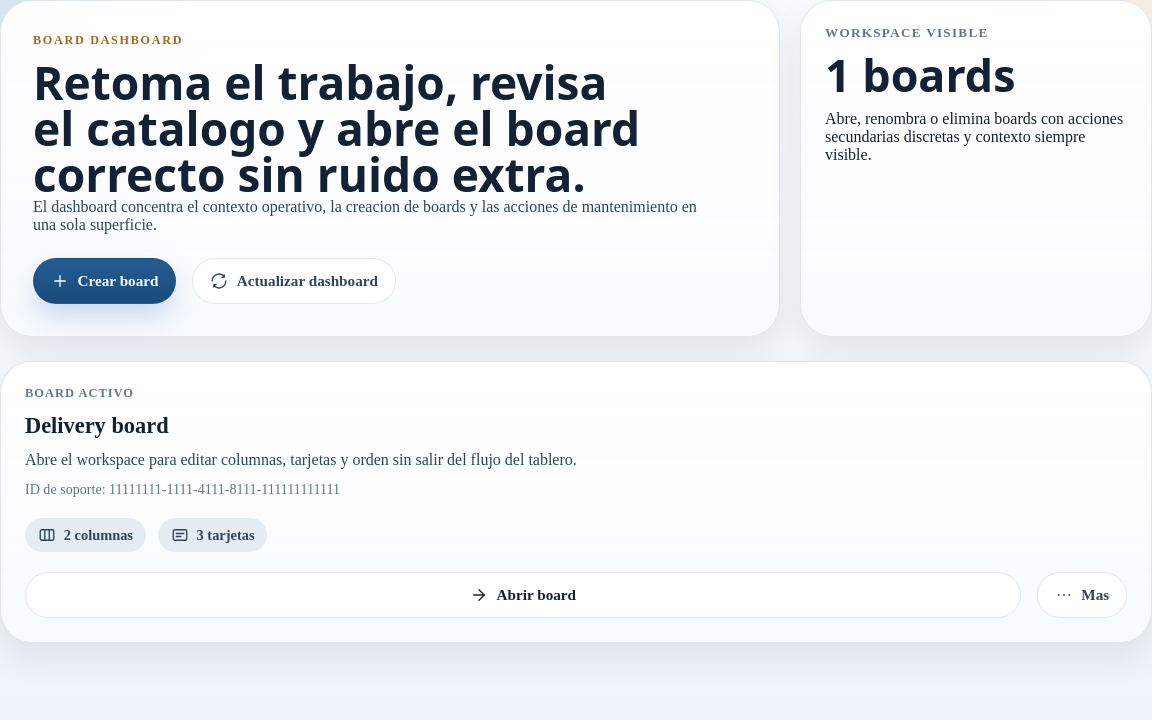
HomeRoute › deletes a board from the dashboard after confirmation
Expected: the heading "Delivery board" is shown, [25,413,169,438]
Click the button "Mas" at (1082, 595), box [1037,572,1127,618]
(page scrolled)
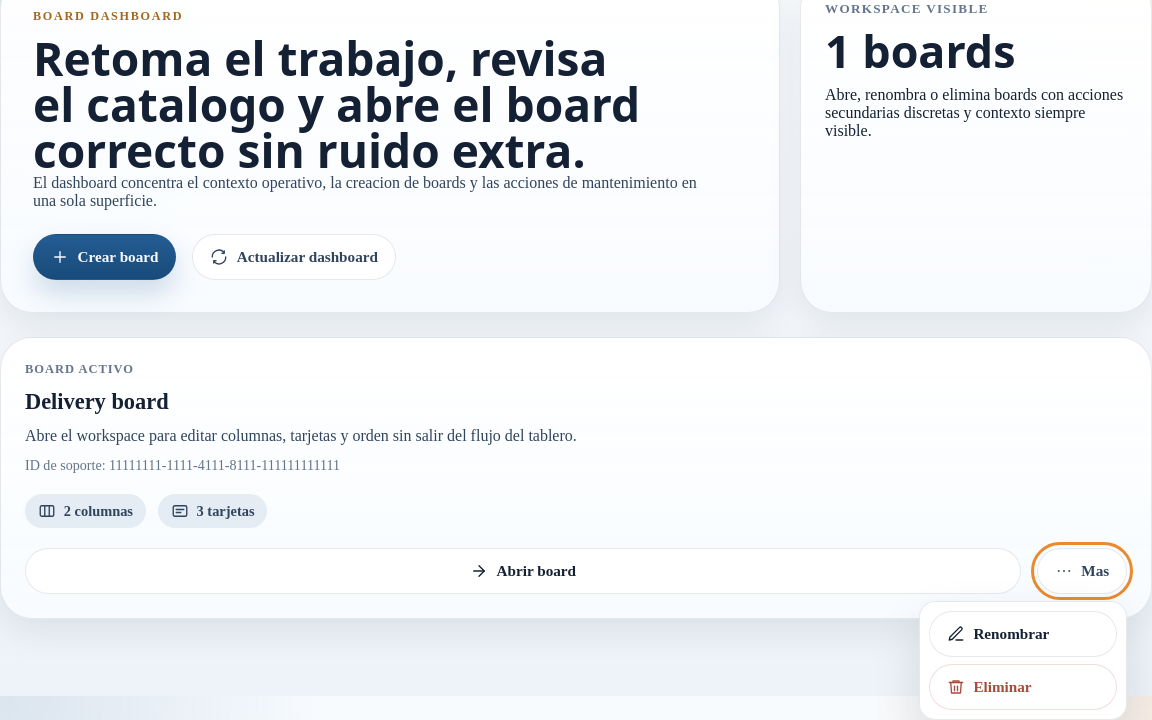
Click the menu item "Eliminar" at (1023, 687), box [929,664,1117,710]
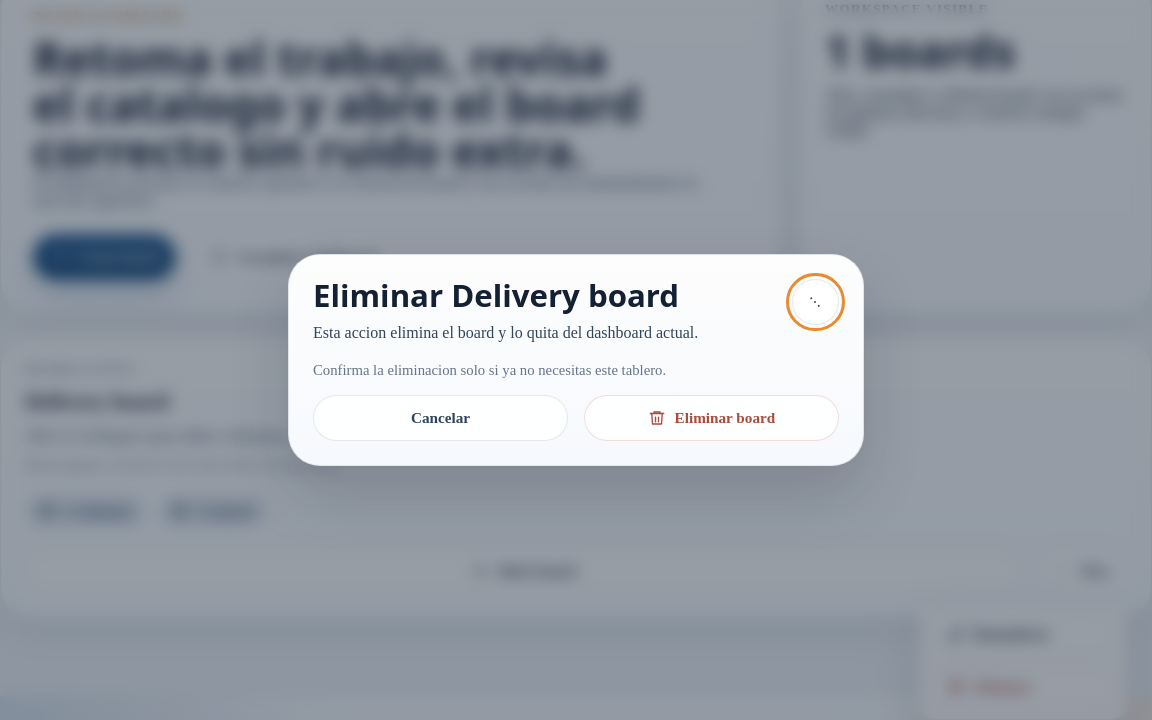
Click the button "Eliminar board" at (712, 418), box [584,395,839,441]
(page scrolled)
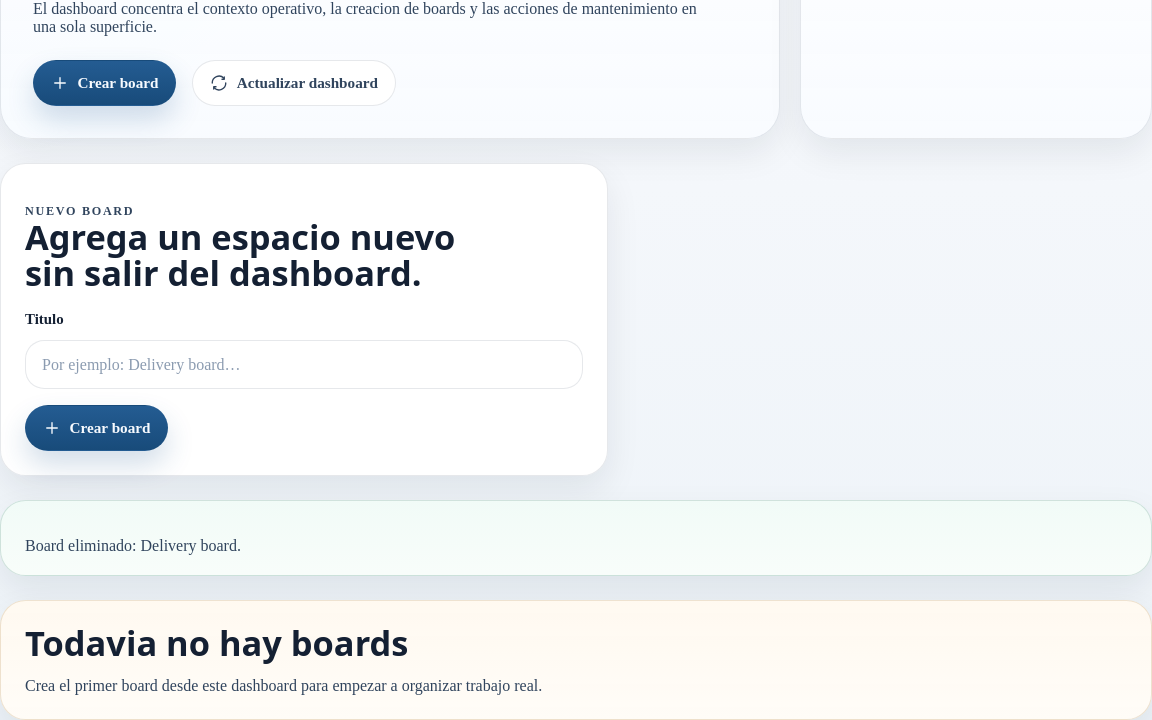
Result: the heading "Todavia no hay boards" is shown at [25,619,408,666]
